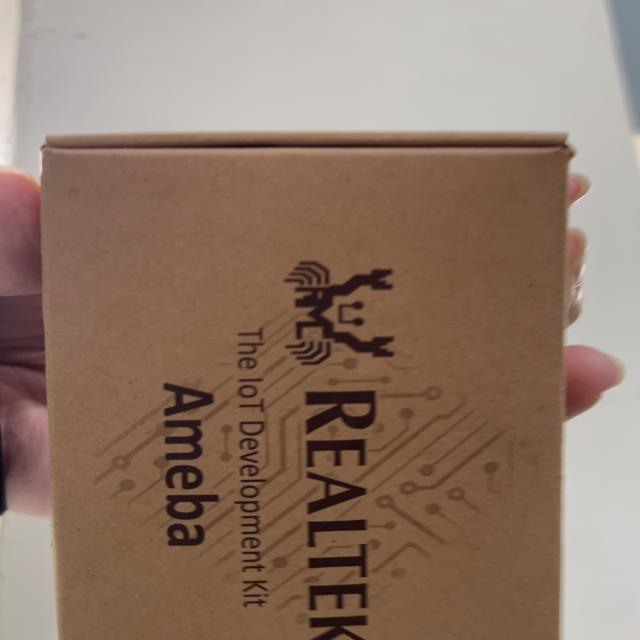box: (26, 101, 638, 640)
